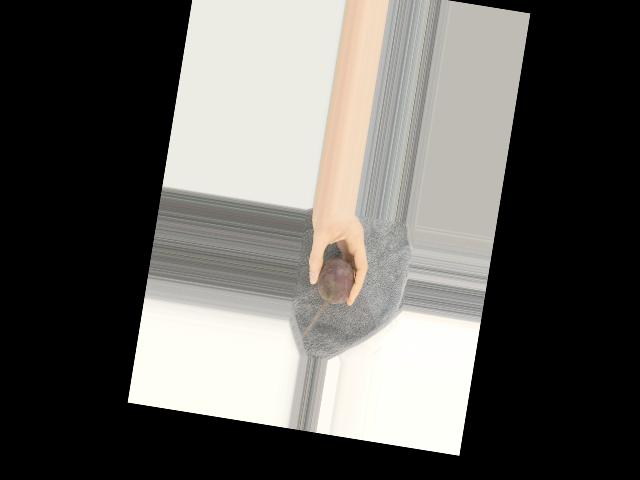beet: (314, 255, 357, 306)
